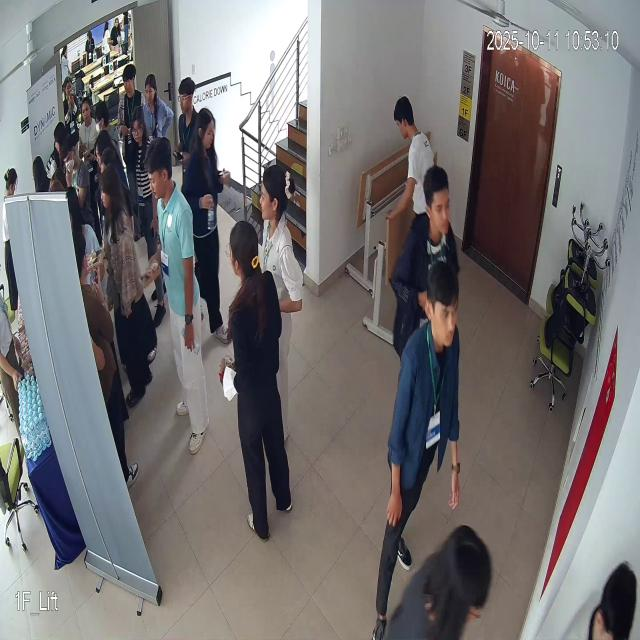face: (424, 161, 455, 243), (144, 133, 176, 209)
